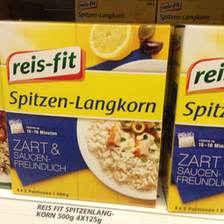rice: (1, 21, 170, 209)
